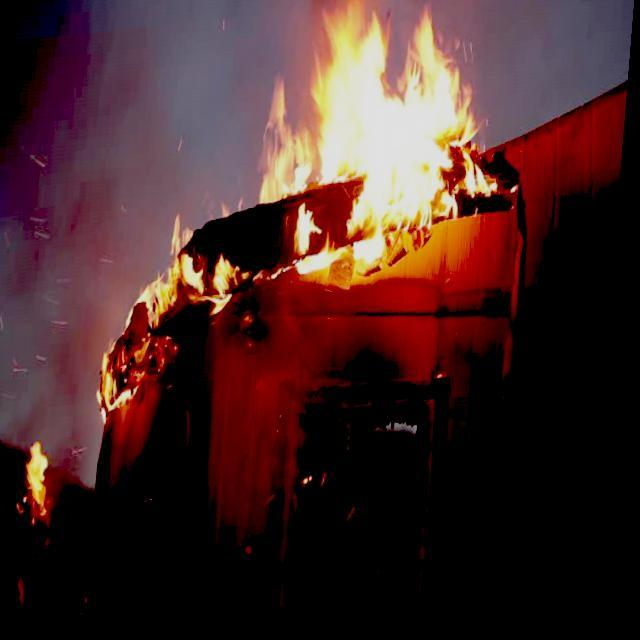Fire: (258, 2, 512, 305), (104, 219, 257, 424), (27, 444, 70, 542)
